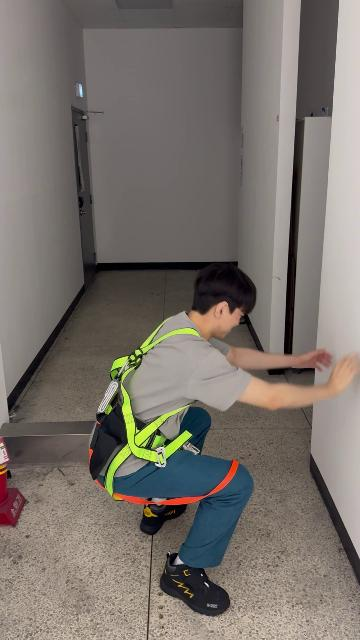helmet_not_worn: (191, 263, 259, 328)
shoe_worn: (160, 553, 230, 616), (139, 501, 188, 535)
vest_worn: (89, 319, 212, 496)
